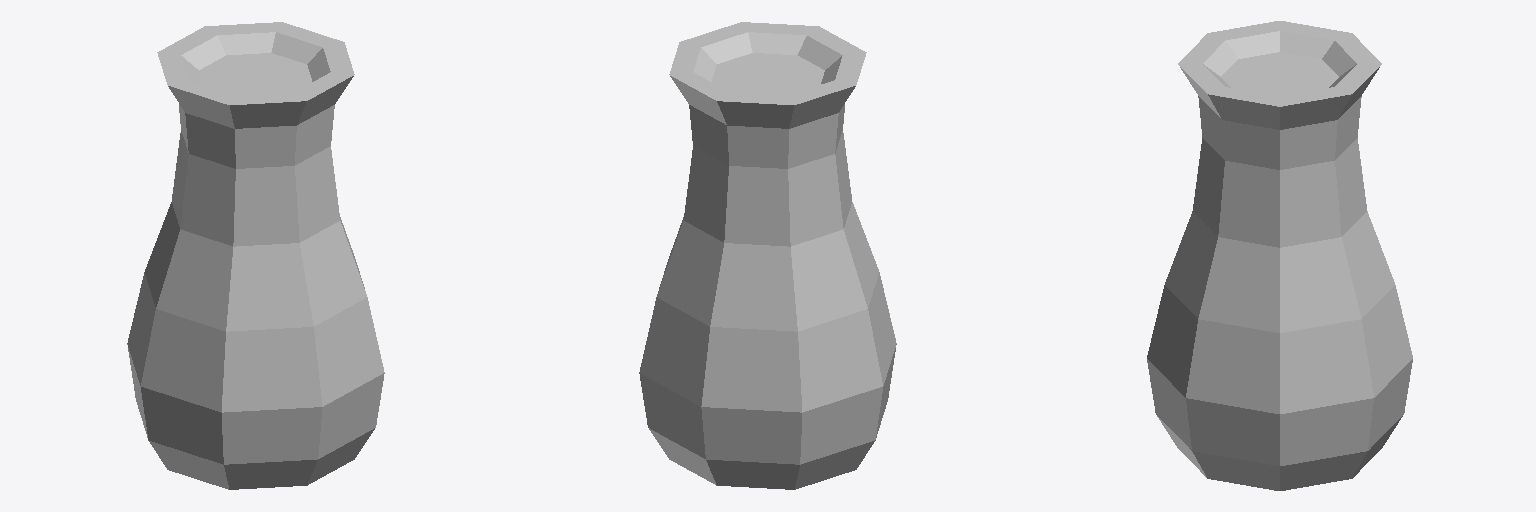
Rendered from jar.obj.
3 renders of one model, left to right at view 1: azimuth 30°, elevation 25°; view 2: azimuth 150°, elevation 25°; view 3: azimuth 270°, elevation 25°, orthographic.
Parts seen in each view (by area): view 1: Cylinder; view 2: Cylinder; view 3: Cylinder.
Part boxes in pixels (x1,y1,x2,y2): Cylinder: (127, 22, 384, 489); Cylinder: (639, 22, 896, 489); Cylinder: (1147, 21, 1412, 490).
Size of the model in its own units: 2.61 by 4.15 by 2.61.